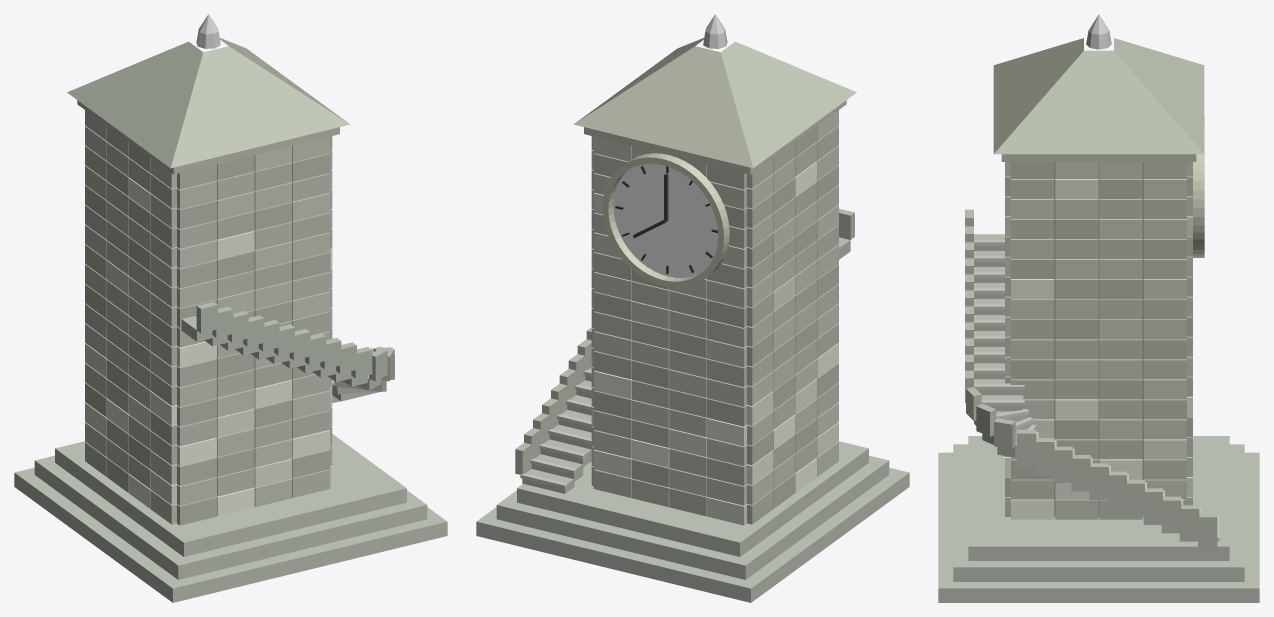
The model's file is clock-tower.glb.
The picture shows the model from 3 angles, left to right: view 1: azimuth 30°, elevation 25°; view 2: azimuth 150°, elevation 25°; view 3: azimuth 270°, elevation 25°; orthographic projection.
Parts seen in each view (by area): view 1: clock_square_block_courses, clock_plinth_three_tiers, clock_cornice_and_pitched_roof, clock_moss_courses, clock_winding_stair_parapet, clock_winding_stair_treads, clock_roof_finial; view 2: clock_square_block_courses, clock_plinth_three_tiers, clock_cornice_and_pitched_roof, clock_moss_courses, clock_face_3_2m, clock_winding_stair_treads, clock_bezel, clock_winding_stair_parapet, clock_roof_finial; view 3: clock_square_block_courses, clock_plinth_three_tiers, clock_cornice_and_pitched_roof, clock_winding_stair_parapet, clock_winding_stair_treads, clock_moss_courses, clock_bezel, clock_roof_finial.
Part boxes in pixels (x1,y1,x2,y2): clock_square_block_courses: [85, 110, 332, 525]; clock_plinth_three_tiers: [14, 434, 447, 602]; clock_cornice_and_pitched_roof: [67, 38, 349, 174]; clock_moss_courses: [85, 177, 332, 516]; clock_winding_stair_parapet: [196, 302, 394, 381]; clock_winding_stair_treads: [181, 314, 386, 402]; clock_roof_finial: [196, 14, 220, 48]; clock_square_block_courses: [591, 110, 838, 524]; clock_plinth_three_tiers: [476, 441, 909, 602]; clock_cornice_and_pitched_roof: [574, 38, 856, 174]; clock_moss_courses: [591, 161, 838, 525]; clock_face_3_2m: [613, 163, 718, 277]; clock_winding_stair_treads: [520, 237, 850, 493]; clock_bezel: [602, 153, 729, 287]; clock_winding_stair_parapet: [515, 208, 854, 474]; clock_roof_finial: [703, 14, 727, 48]; clock_square_block_courses: [1005, 162, 1192, 519]; clock_plinth_three_tiers: [938, 436, 1259, 602]; clock_cornice_and_pitched_roof: [993, 38, 1204, 161]; clock_winding_stair_parapet: [965, 209, 1217, 541]; clock_winding_stair_treads: [974, 234, 1219, 549]; clock_moss_courses: [1005, 179, 1192, 519]; clock_bezel: [1193, 116, 1204, 257]; clock_roof_finial: [1086, 14, 1111, 49].
Bounding box in the file's own units: 8 × 14 × 8.
